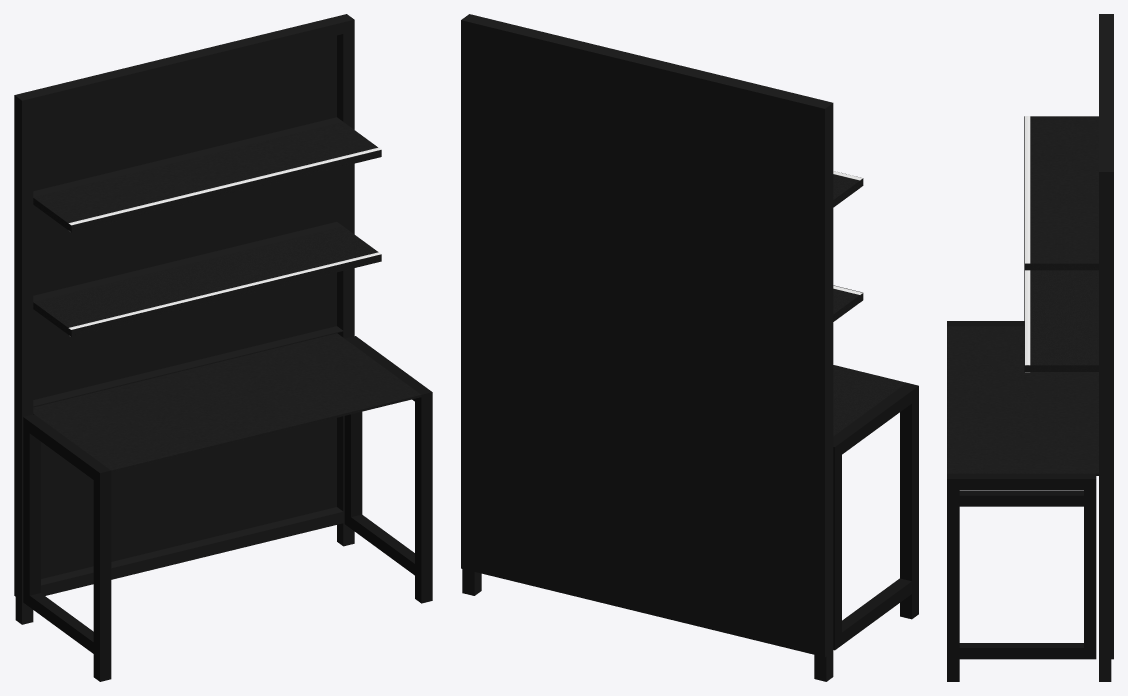
The model's file is regal.glb.
3 views of the same model, side by side, from view 1: azimuth 30°, elevation 25°; view 2: azimuth 150°, elevation 25°; view 3: azimuth 270°, elevation 25° (orthographic). The views are drawn at different scales.
Visible parts, largest first — view 1: REGAL.005, REGAL_BLAT.015, polka gorna.004, polka dolna.003, REGAL_LEWENOGI.005, REGAL_PRAWENOGI.015, led.002; view 2: REGAL.005, REGAL_LEWENOGI.005, REGAL_BLAT.015; view 3: REGAL_BLAT.015, polka gorna.004, REGAL.005, REGAL_PRAWENOGI.015, polka dolna.003, REGAL_LEWENOGI.005, led.002.
Boxes of the visible parts, <box> form: REGAL.005: <box>14,14,354,624</box>; REGAL_BLAT.015: <box>33,333,421,472</box>; polka gorna.004: <box>33,117,381,232</box>; polka dolna.003: <box>33,222,381,336</box>; REGAL_LEWENOGI.005: <box>23,414,111,681</box>; REGAL_PRAWENOGI.015: <box>344,336,432,603</box>; led.002: <box>68,147,381,336</box>; REGAL.005: <box>461,14,833,681</box>; REGAL_LEWENOGI.005: <box>833,383,918,650</box>; REGAL_BLAT.015: <box>833,365,906,436</box>; REGAL_BLAT.015: <box>947,326,1098,475</box>; polka gorna.004: <box>1024,116,1098,270</box>; REGAL.005: <box>1099,14,1113,681</box>; REGAL_PRAWENOGI.015: <box>947,473,1096,681</box>; polka dolna.003: <box>1024,270,1098,371</box>; REGAL_LEWENOGI.005: <box>947,321,1083,506</box>; led.002: <box>1025,116,1030,372</box>.
Bounding box in the file's own units: 1.5 × 2.26 × 0.67.
4 materials, 3 textured.
